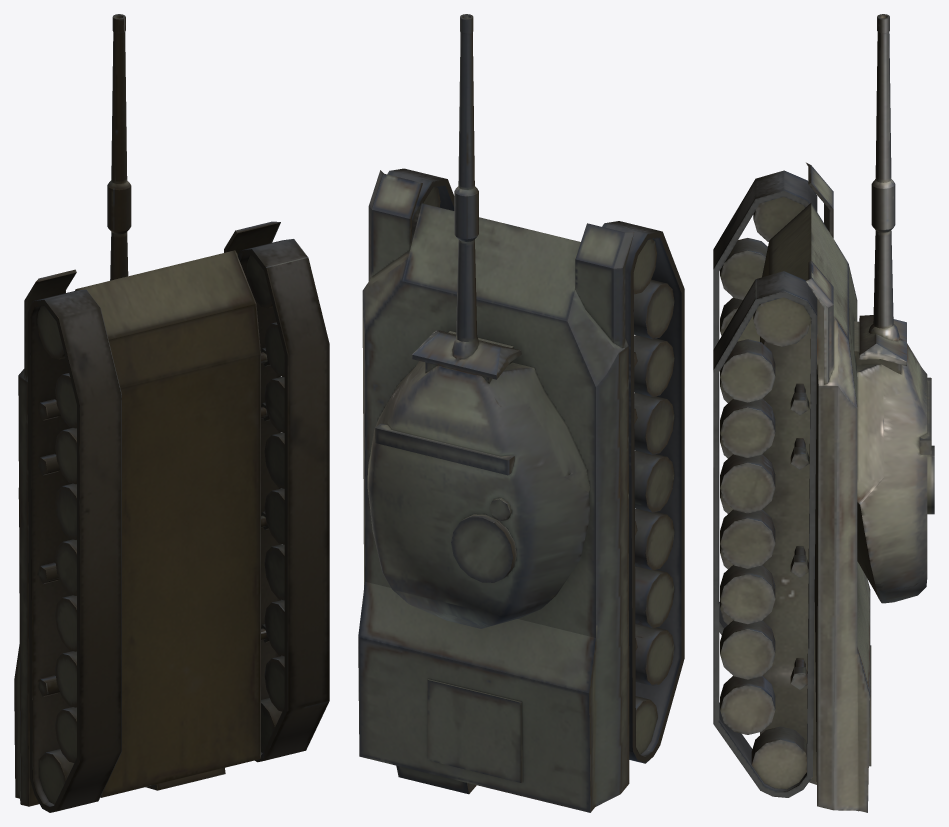
File: Leopard_PT_A.fbx
3 renders of one model, left to right at view 1: azimuth 30°, elevation 25°; view 2: azimuth 150°, elevation 25°; view 3: azimuth 270°, elevation 25°, orthographic. The views are drawn at different scales.
Parts seen in each view (by area): view 1: Leopard_PT_A Body, Leopard_PT_A Turret; view 2: Leopard_PT_A Body, Leopard_PT_A Turret; view 3: Leopard_PT_A Body, Leopard_PT_A Turret.
Boxes of the visible parts, <box> form: Leopard_PT_A Body: <box>14,221,329,812</box>; Leopard_PT_A Turret: <box>18,14,131,498</box>; Leopard_PT_A Body: <box>358,168,684,812</box>; Leopard_PT_A Turret: <box>367,14,590,628</box>; Leopard_PT_A Body: <box>713,162,871,812</box>; Leopard_PT_A Turret: <box>854,14,934,603</box>.
Bounding box in the file's own units: 133 × 387 × 103.
